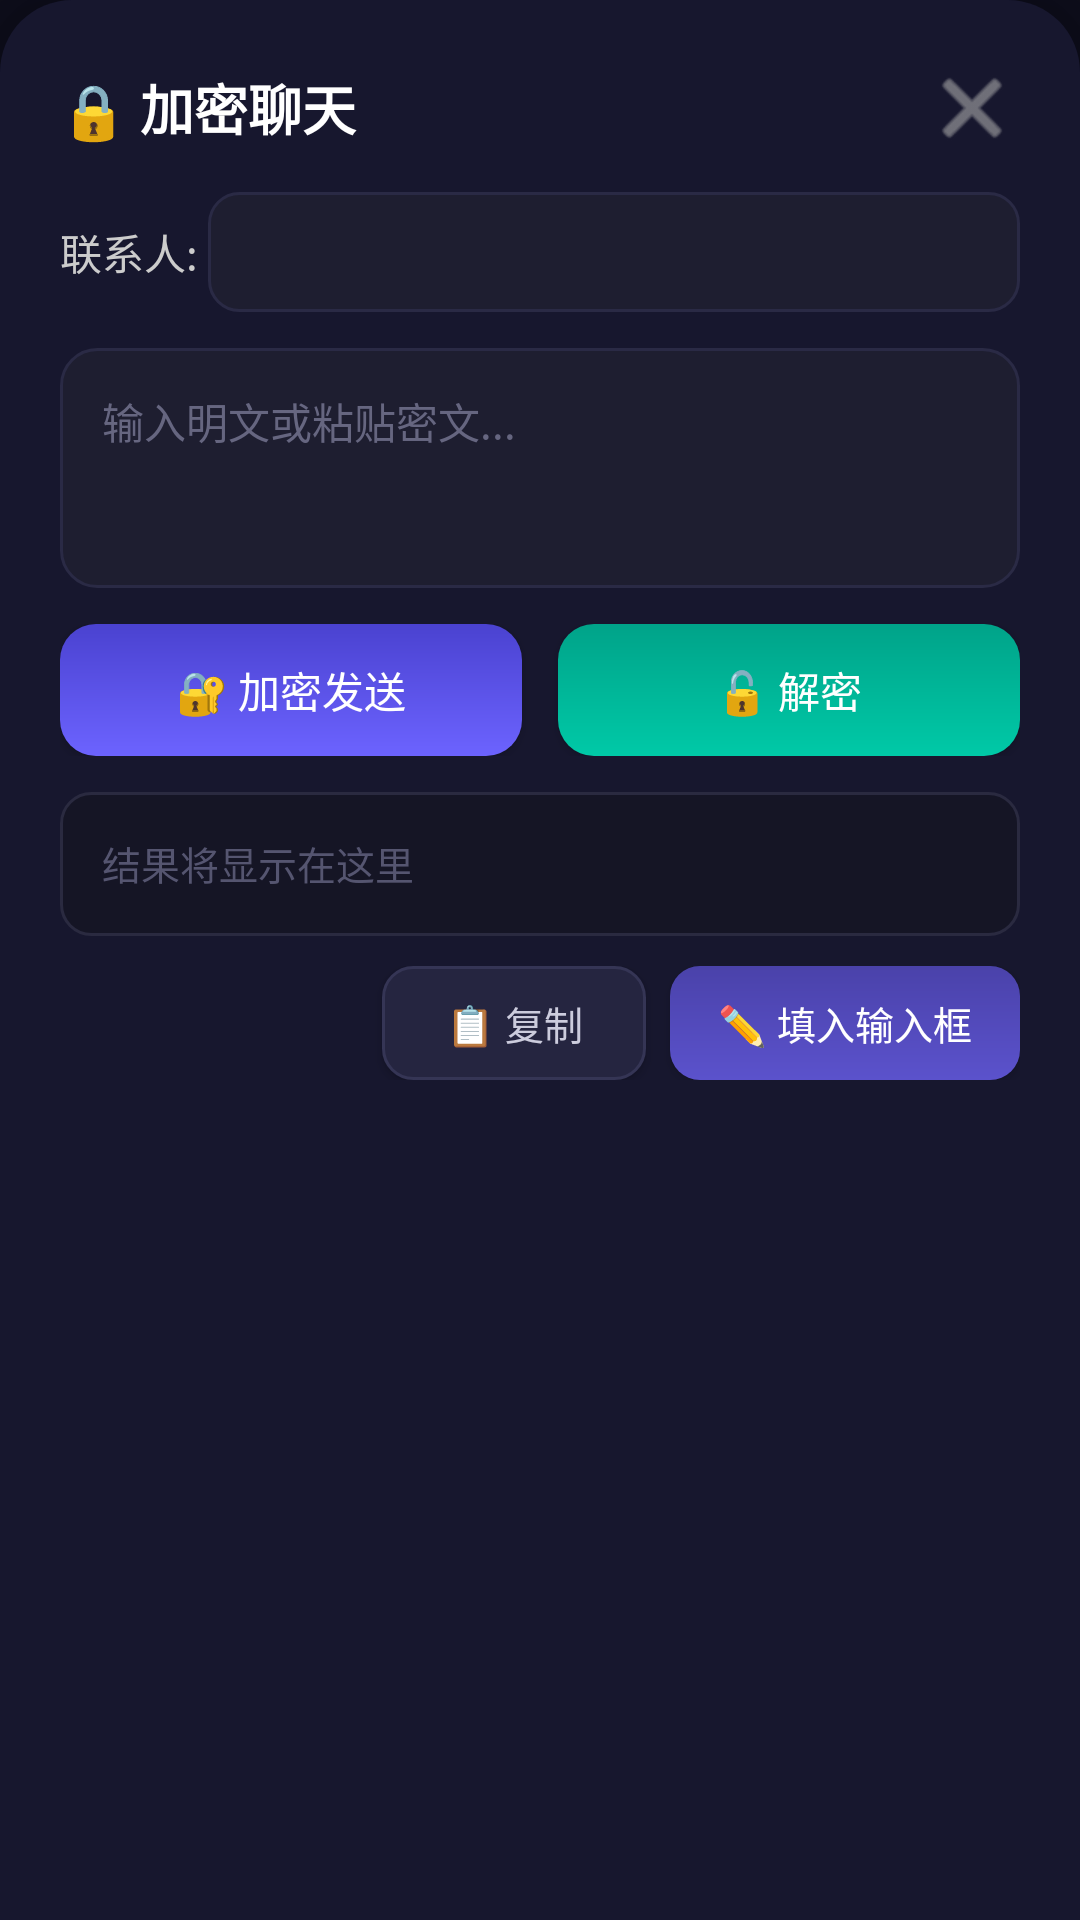

Locate icon controls on the screen. Image size 1080×1920, boxes as (x1, y1, x2, y2).
关闭: (942, 78, 1002, 138)
